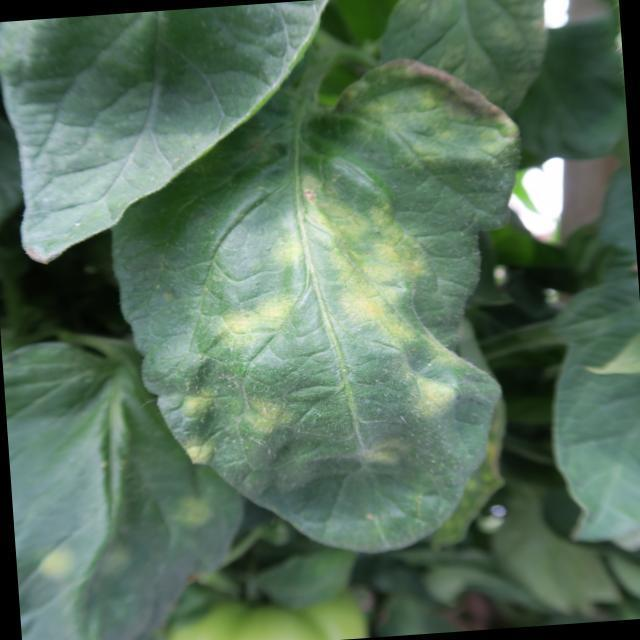Mosaic Virus: (160, 80, 528, 474), (17, 472, 227, 596)
